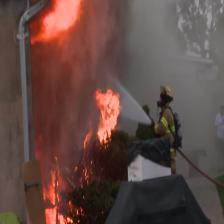fire: (33, 109, 107, 224), (32, 0, 85, 43), (92, 83, 124, 148)
smoke: (77, 3, 146, 80)
